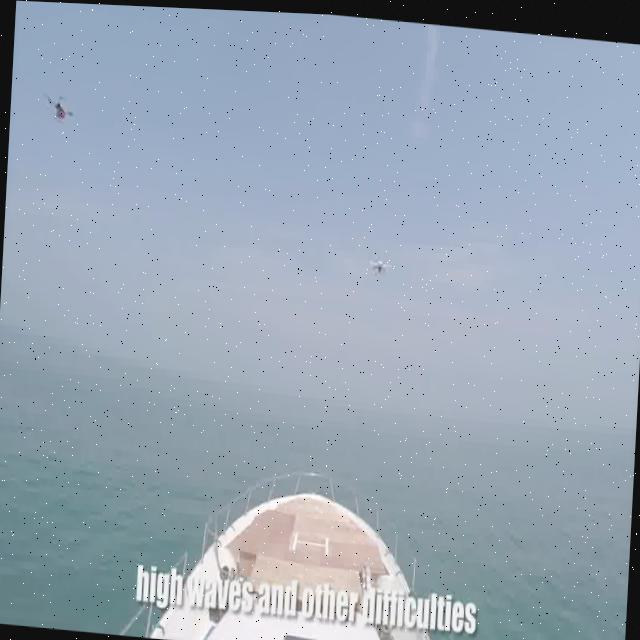drone: (42, 84, 75, 130), (365, 244, 391, 275)
